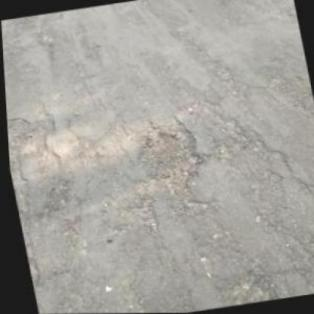Hueco: (125, 119, 206, 197), (211, 268, 276, 306)
